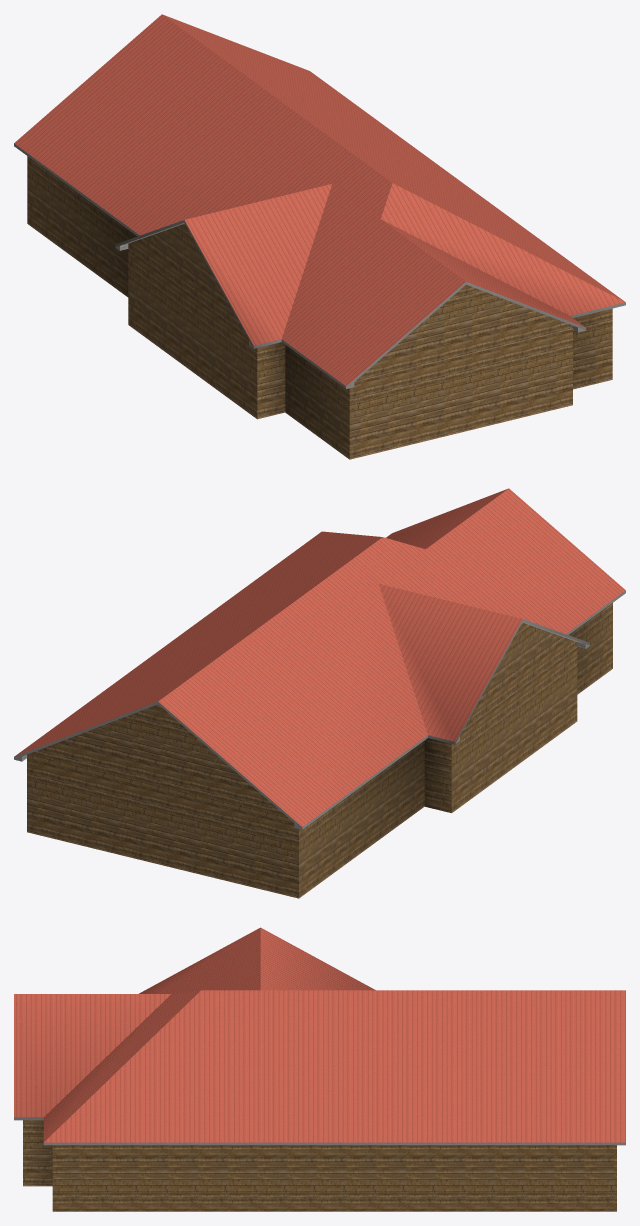
The model's file is house_017.glb.
3 renders of one model, top to bottom at view 1: azimuth 30°, elevation 25°; view 2: azimuth 150°, elevation 25°; view 3: azimuth 270°, elevation 25°, orthographic. The views are drawn at different scales.
Parts seen in each view (by area): view 1: Export; view 2: Export; view 3: Export.
Boxes of the visible parts, x1=… form: Export: x1=14, y1=14, x2=625, y2=459; Export: x1=14, y1=488, x2=625, y2=898; Export: x1=14, y1=927, x2=625, y2=1211.
Size of the model in its own units: 11.6 by 5.88 by 20.6.
Materials: 3 (3 with a texture image).
